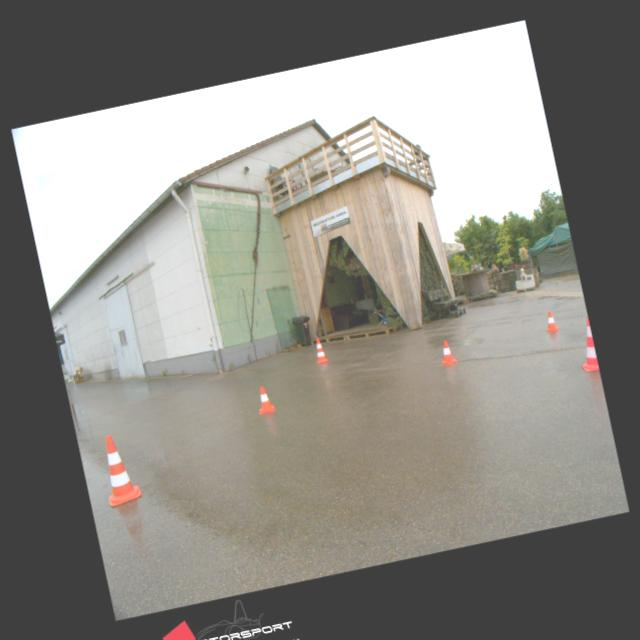large_orange_cone: (95, 430, 142, 506), (570, 314, 598, 372), (311, 336, 328, 362)
orange_cone: (252, 384, 274, 414), (436, 338, 458, 366), (542, 309, 558, 332)
